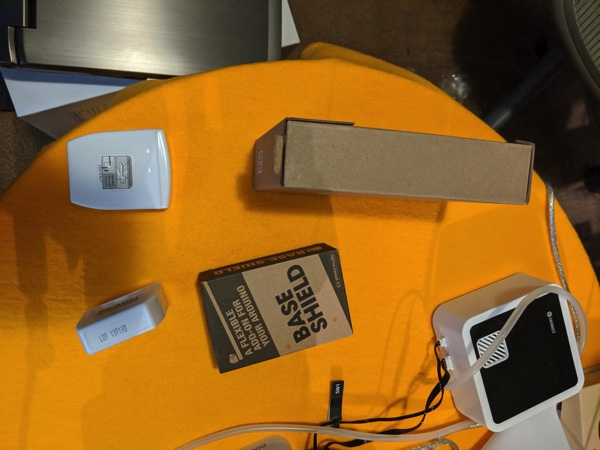cardboard: (236, 99, 540, 227), (193, 235, 360, 378)
plastic: (56, 117, 189, 227), (70, 275, 173, 367)
